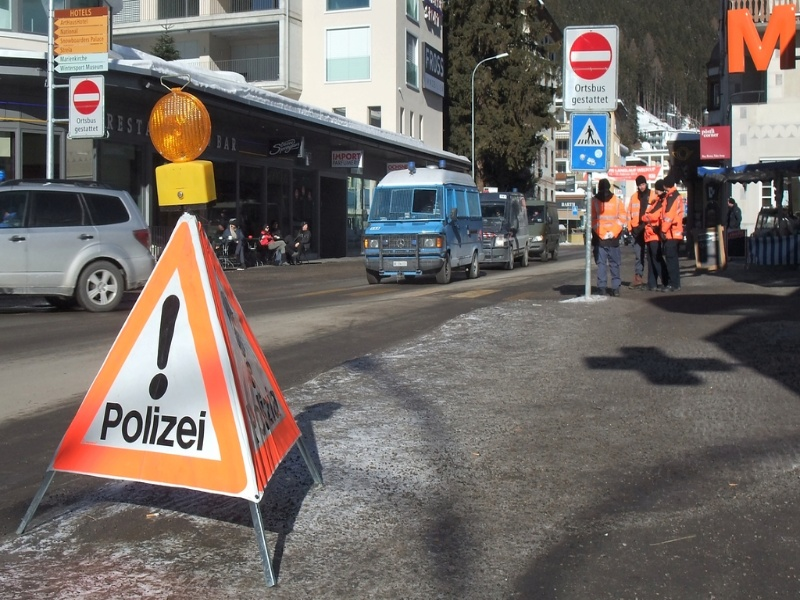no_entry: (566, 26, 619, 83), (66, 74, 108, 116)
pedestrian_crossing_ahead: (570, 114, 608, 150)
